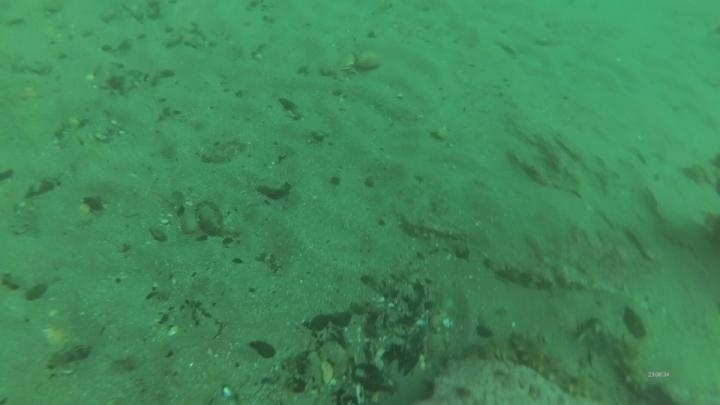holothurian: (508, 325, 608, 403), (611, 331, 656, 401), (483, 254, 559, 293)
